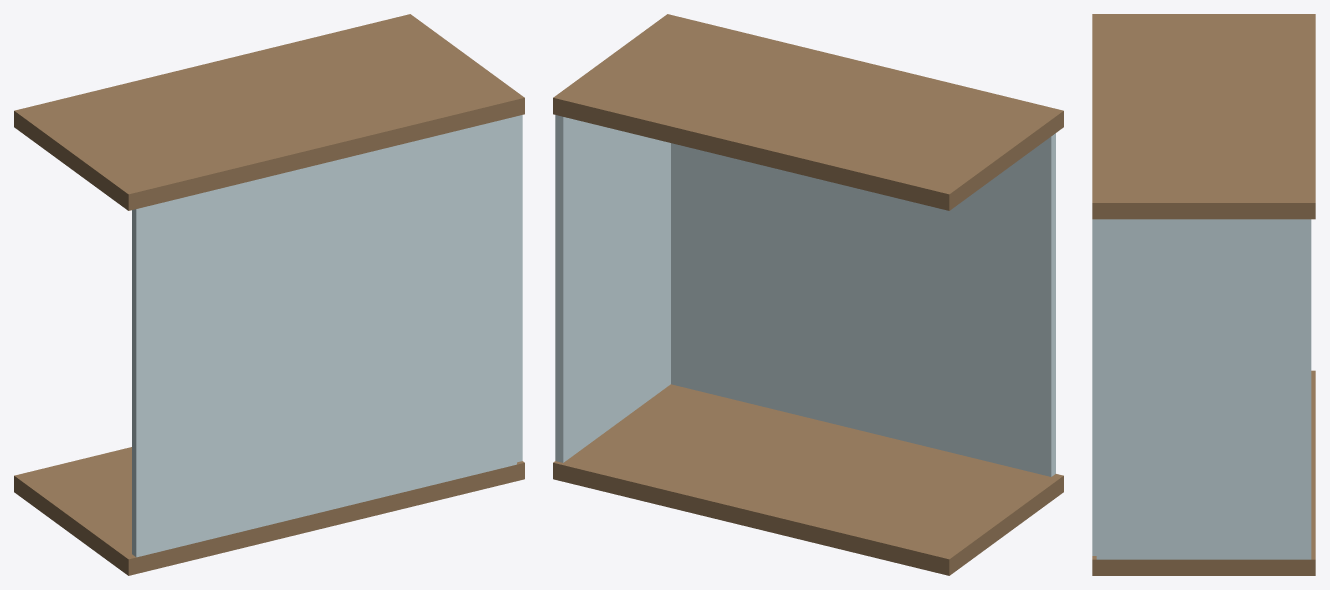
File: showcase.glb
The picture shows the model from 3 angles, left to right: view 1: azimuth 30°, elevation 25°; view 2: azimuth 150°, elevation 25°; view 3: azimuth 270°, elevation 25°; orthographic projection. The views are drawn at different scales.
Parts seen in each view (by area): view 1: glass, frame; view 2: glass, frame; view 3: glass, frame.
Boxes of the visible parts, <box> form: glass: <box>132,115,522,557</box>; frame: <box>14,14,524,575</box>; glass: <box>555,115,1055,476</box>; frame: <box>553,14,1063,575</box>; glass: <box>1092,219,1311,559</box>; frame: <box>1092,14,1315,575</box>.
Bounding box in the file's own units: 1 × 0.92 × 0.5.
